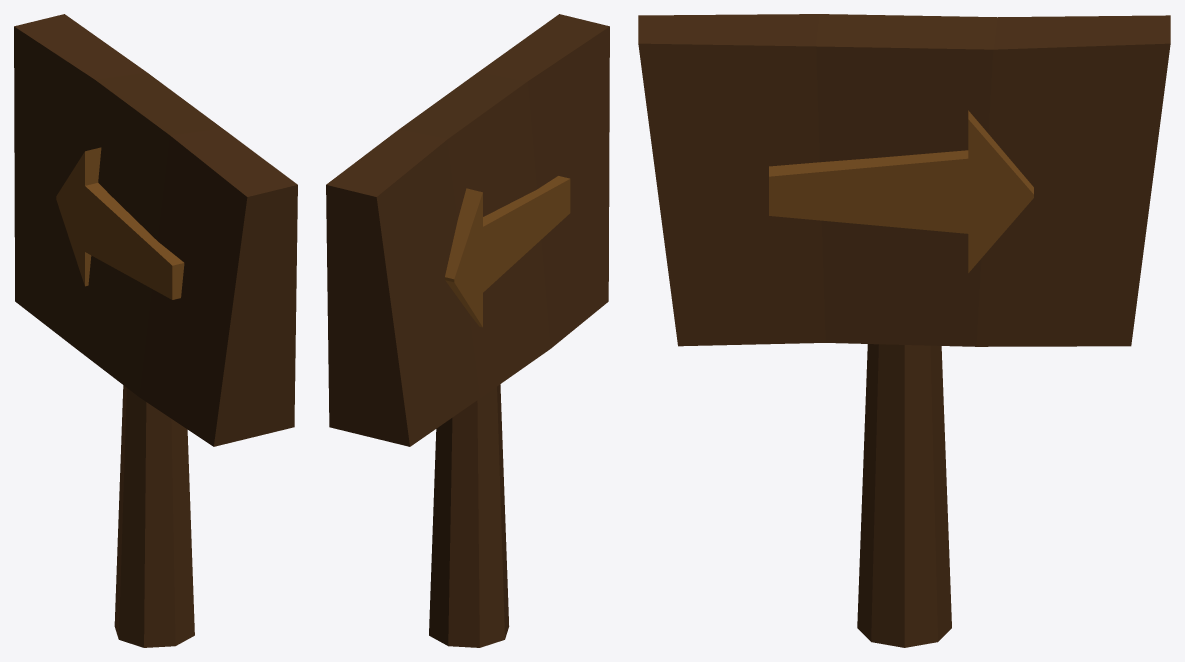
Rendered from shild.fbx.
The picture shows the model from 3 angles, left to right: view 1: azimuth 30°, elevation 25°; view 2: azimuth 150°, elevation 25°; view 3: azimuth 270°, elevation 25°; orthographic projection. The views are drawn at different scales.
Parts seen in each view (by area): view 1: Sign; view 2: Sign; view 3: Sign.
Part boxes in pixels (left/top/right/bottom): Sign: left=14, top=14, right=297, bottom=647; Sign: left=326, top=14, right=609, bottom=647; Sign: left=638, top=14, right=1170, bottom=647.
Size of the model in its own units: 32.52 by 170 by 137.
